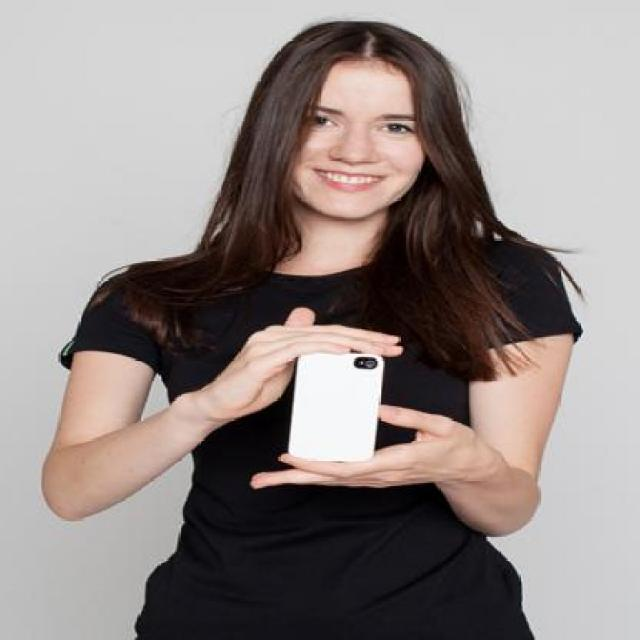phone: (288, 351, 388, 462)
